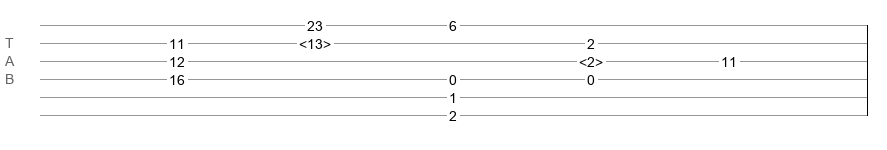0: (449, 72, 457, 82), (587, 72, 595, 82)
1: (449, 90, 457, 100)
11: (169, 36, 185, 46), (721, 54, 737, 64)
12: (169, 54, 185, 64)
16: (169, 72, 185, 82)
2: (449, 108, 457, 118), (587, 36, 595, 46)
23: (307, 18, 323, 28)
6: (449, 18, 457, 28)
harmonic: (299, 36, 331, 46), (579, 54, 603, 64)
